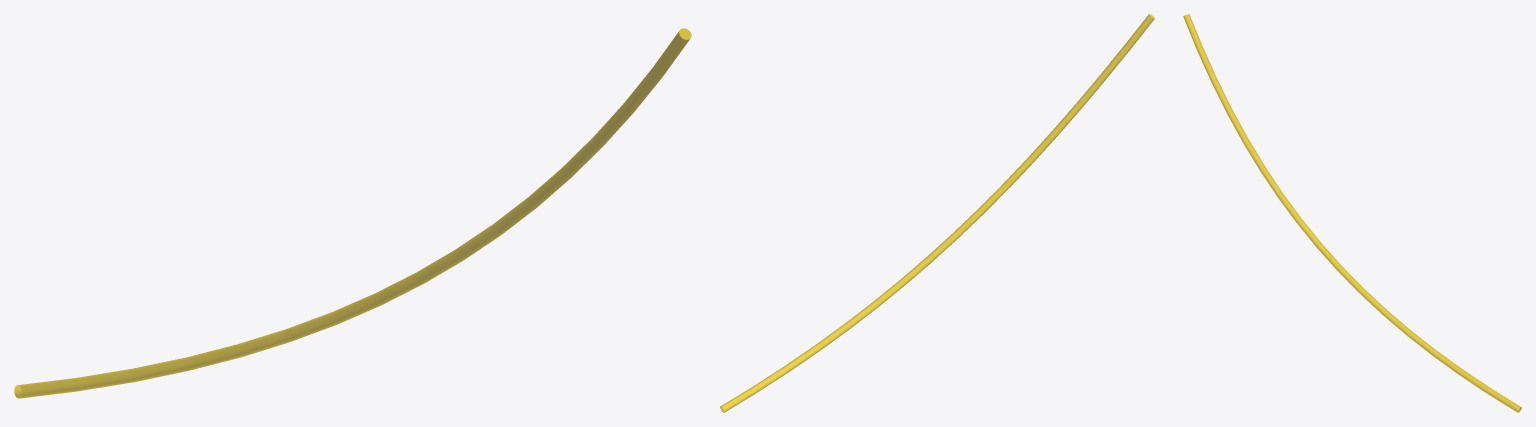
Rendered from Event_419990632_track_9.fbx.
3 views of the same model, side by side, from view 1: azimuth 90°, elevation 25°; view 2: azimuth 150°, elevation 25°; view 3: azimuth 270°, elevation 25° (orthographic). The views are drawn at different scales.
Parts seen in each view (by area): view 1: Model; view 2: Model; view 3: Model.
Boxes of the visible parts, x1,y1,x2,y2 form: Model: (14,28,691,398); Model: (720,14,1154,412); Model: (1183,14,1521,412).
Size of the model in its own units: 1.53 by 1.89 by 1.99.
